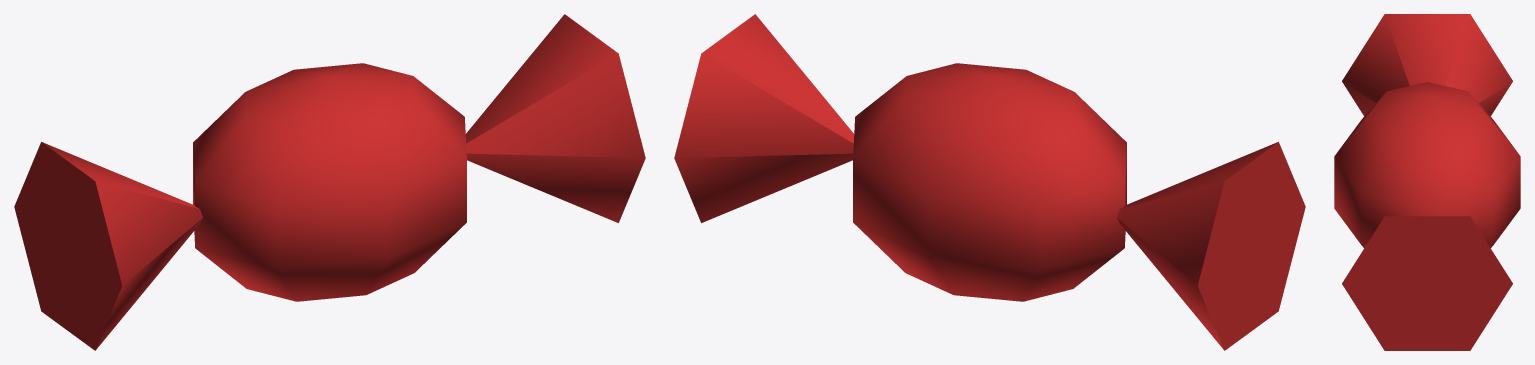
File: CANDY.glb
The picture shows the model from 3 angles, left to right: view 1: azimuth 30°, elevation 25°; view 2: azimuth 150°, elevation 25°; view 3: azimuth 270°, elevation 25°; orthographic projection. The views are drawn at different scales.
Visible parts, largest first — view 1: glossyPlastic_0; view 2: glossyPlastic_0; view 3: glossyPlastic_0.
Boxes of the visible parts, box(x1,y1,x2,y2) form: glossyPlastic_0: box(14, 14, 645, 350); glossyPlastic_0: box(674, 14, 1305, 350); glossyPlastic_0: box(1334, 14, 1520, 350).
Bounding box in the file's own units: 0.072 × 0.028 × 0.028.
